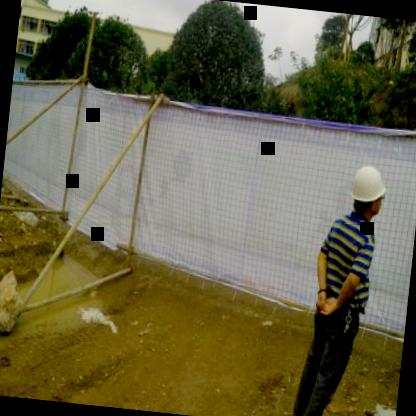helmet: (343, 158, 391, 224)
